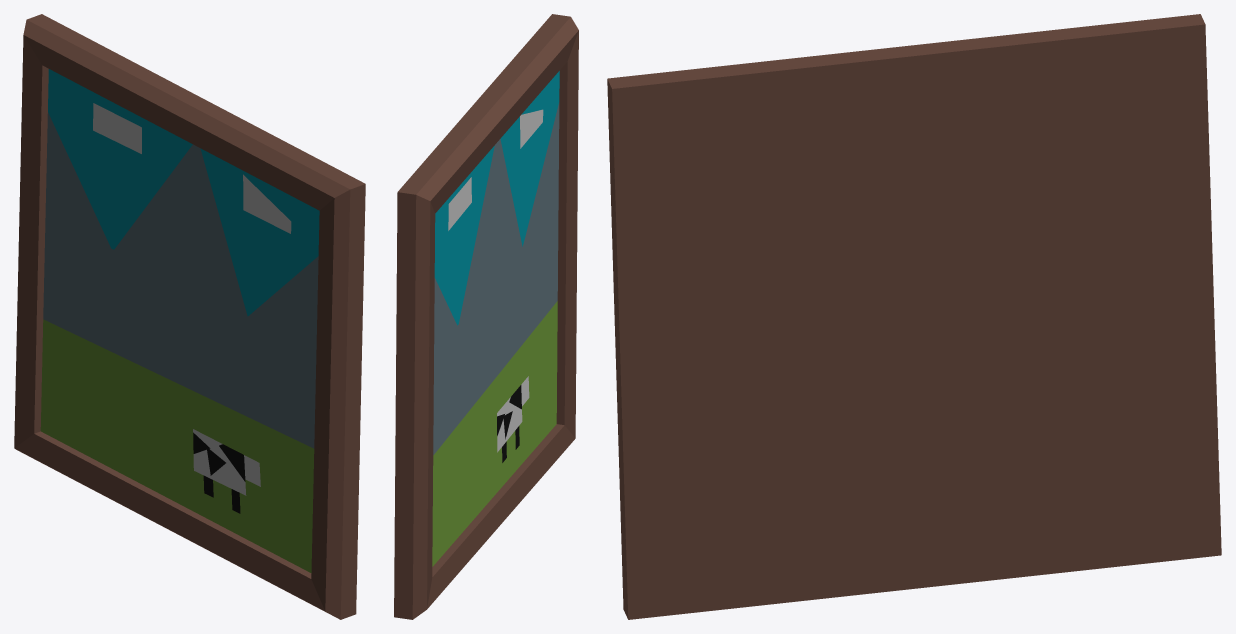
File: painting_1.glb
3 views of the same model, side by side, from view 1: azimuth 30°, elevation 25°; view 2: azimuth 150°, elevation 25°; view 3: azimuth 270°, elevation 25° (orthographic). The views are drawn at different scales.
Visible parts, largest first — view 1: node_MeshObject125675648-PolyPaper20; view 2: node_MeshObject125675648-PolyPaper20; view 3: node_MeshObject125675648-PolyPaper20.
Part boxes in pixels (<box>): node_MeshObject125675648-PolyPaper20: <box>14,14,365,619</box>; node_MeshObject125675648-PolyPaper20: <box>394,14,578,619</box>; node_MeshObject125675648-PolyPaper20: <box>607,14,1221,619</box>.
Size of the model in its own units: 0.144 by 0.5549 by 0.5634.
